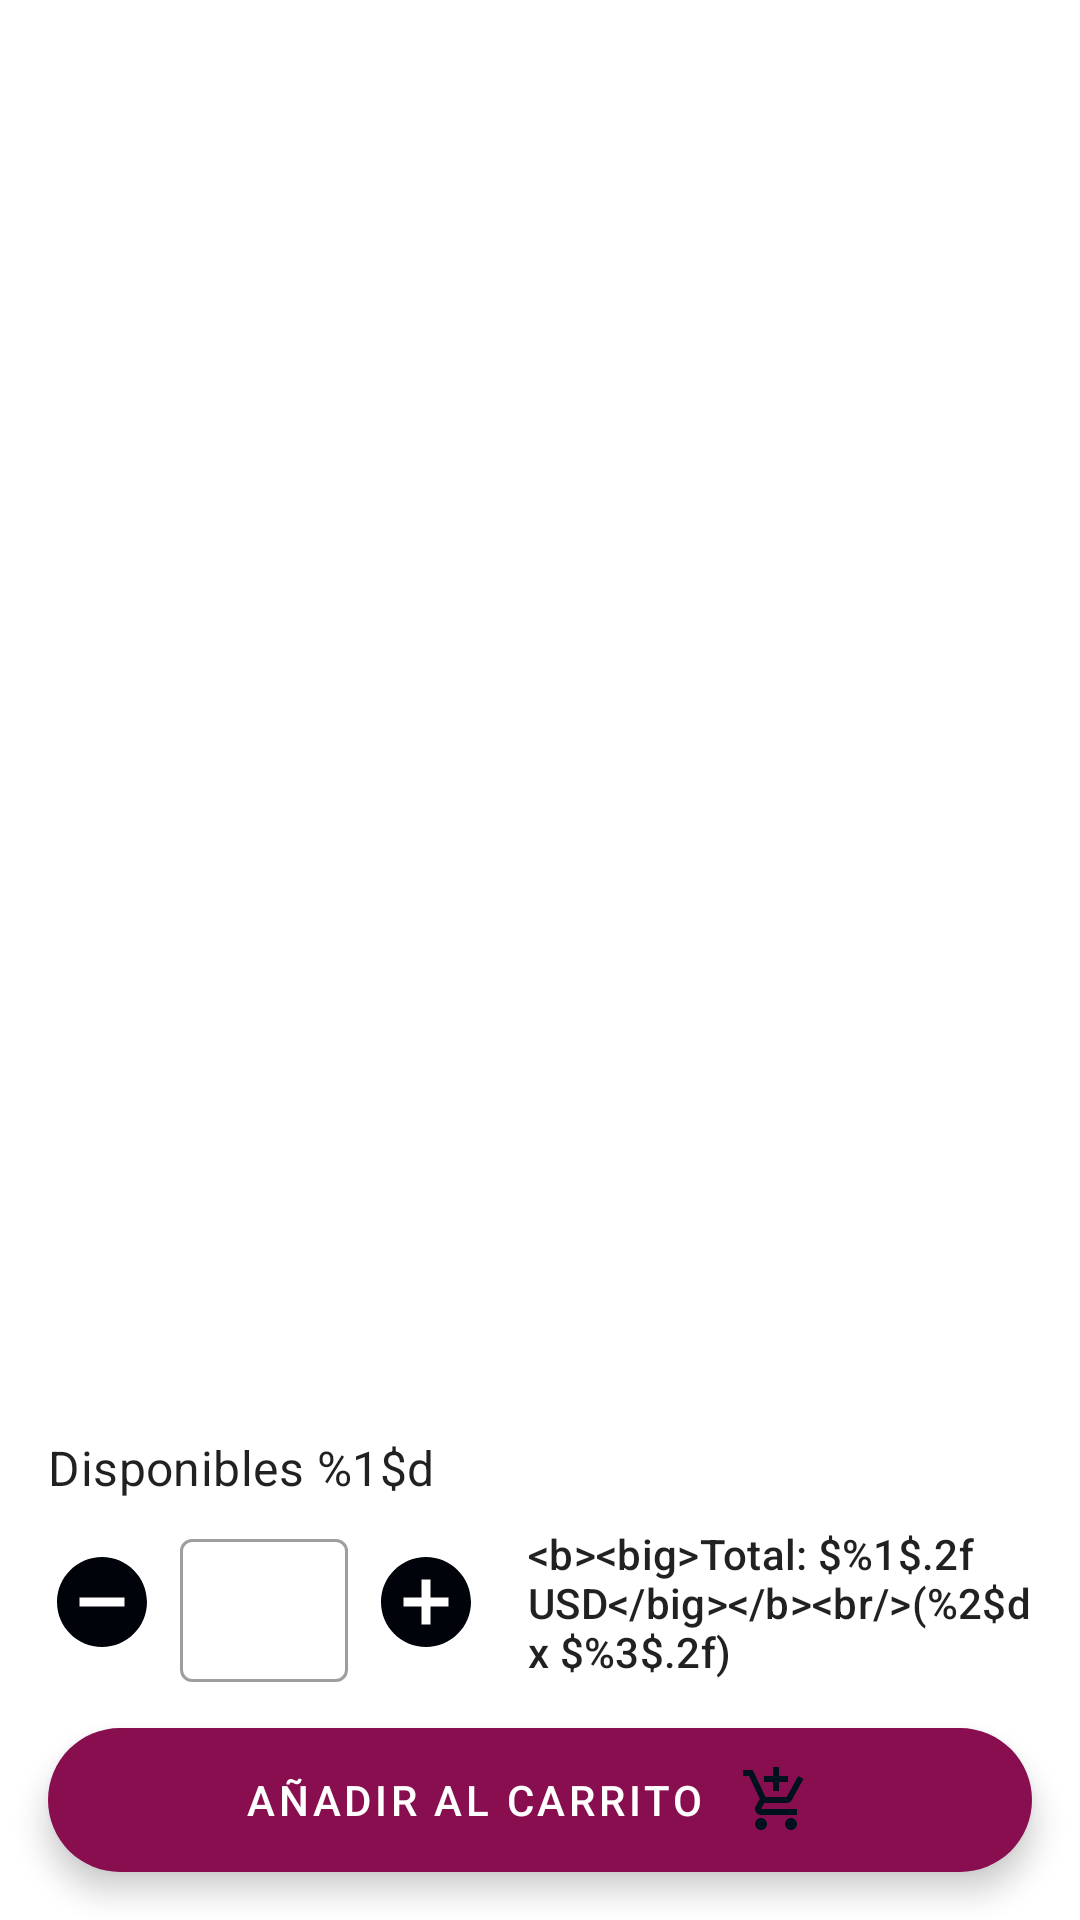

Icons on this 1080×1920 Android screen, each with the point to tap as (x,y):
add: (426,1602)
remove: (102,1602)
